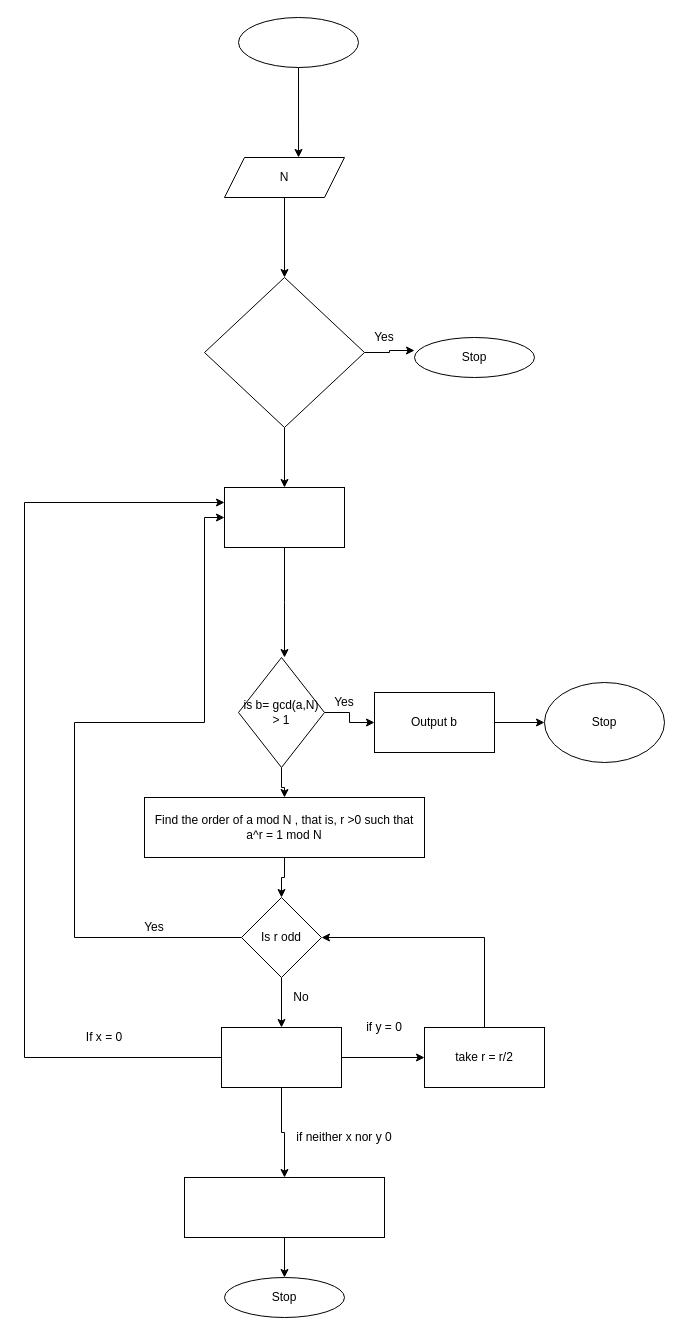
The diagram is 682 pixels wide and 1335 high, and some of its shapes have lost their labels. The shapes that lost their labels are listed below. From the top down, each one's centre as x and y in pixels, then its label:
At [298,42]: "Start".
At [284,352]: "Is N a prime or power of a prime".
At [284,517]: "Choose 1 < a < N at random".
At [281,1057]: "Compute x=a(r/2)+1 (mod N) y=a(r/2)+1(mod N)".
At [284,1207]: "Compute p = gcd(x,N) and q = gcd(y,N). One of them is factor".
